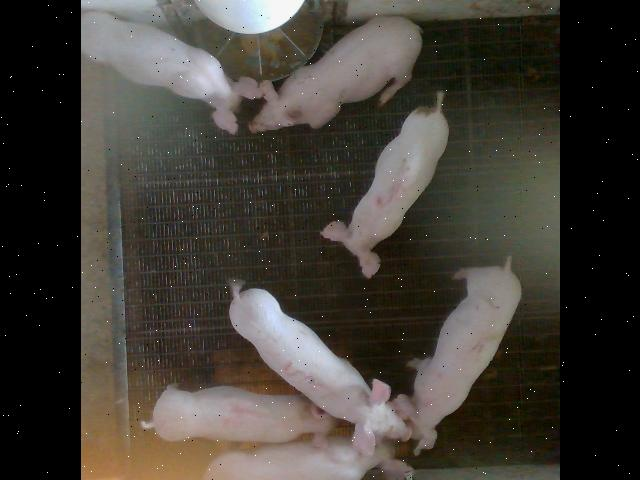pig-3: (229, 281, 409, 454)
pig-4: (141, 386, 338, 442)
pig-5: (321, 91, 448, 278)
